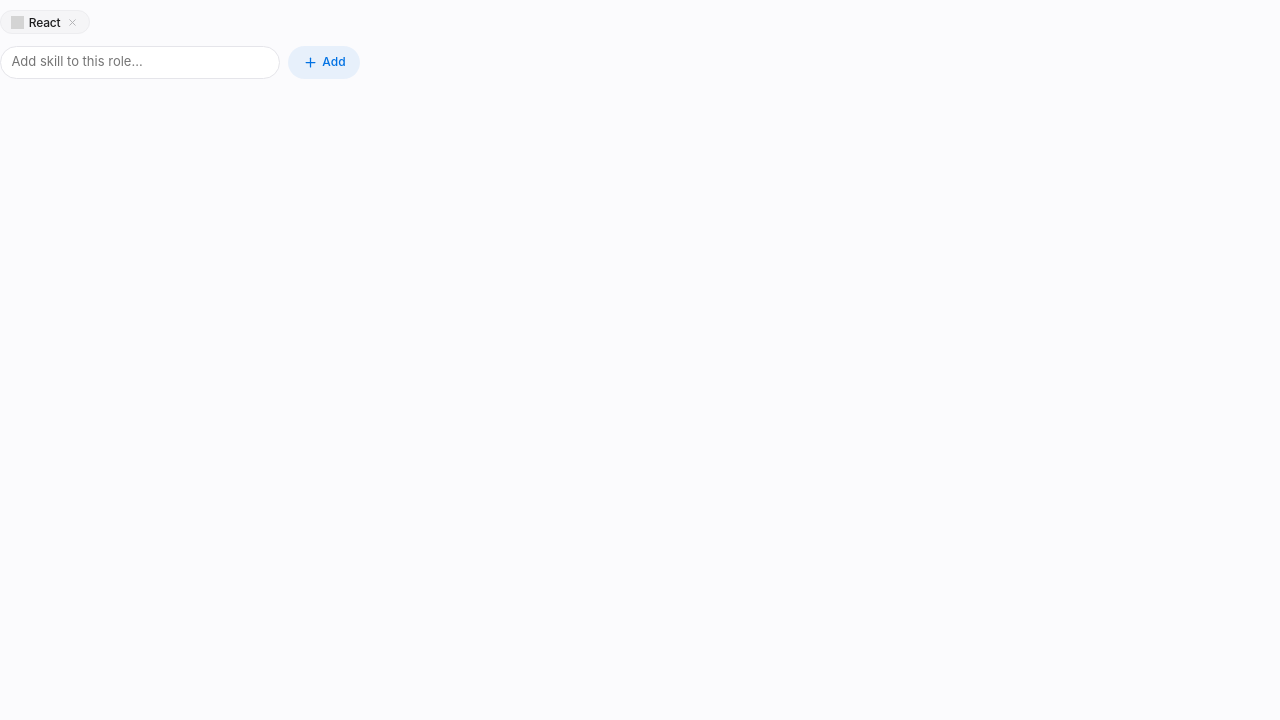
Scenario: ExperienceSkills › prevents duplicate skills within a single role and allows adding/removing
Later steps or results of the test are not shown.
Check: the number of list items is 1, box [0, 10, 90, 34]
Type "React" into the dropdown named "New skill" at (140, 62), box [0, 46, 280, 79]
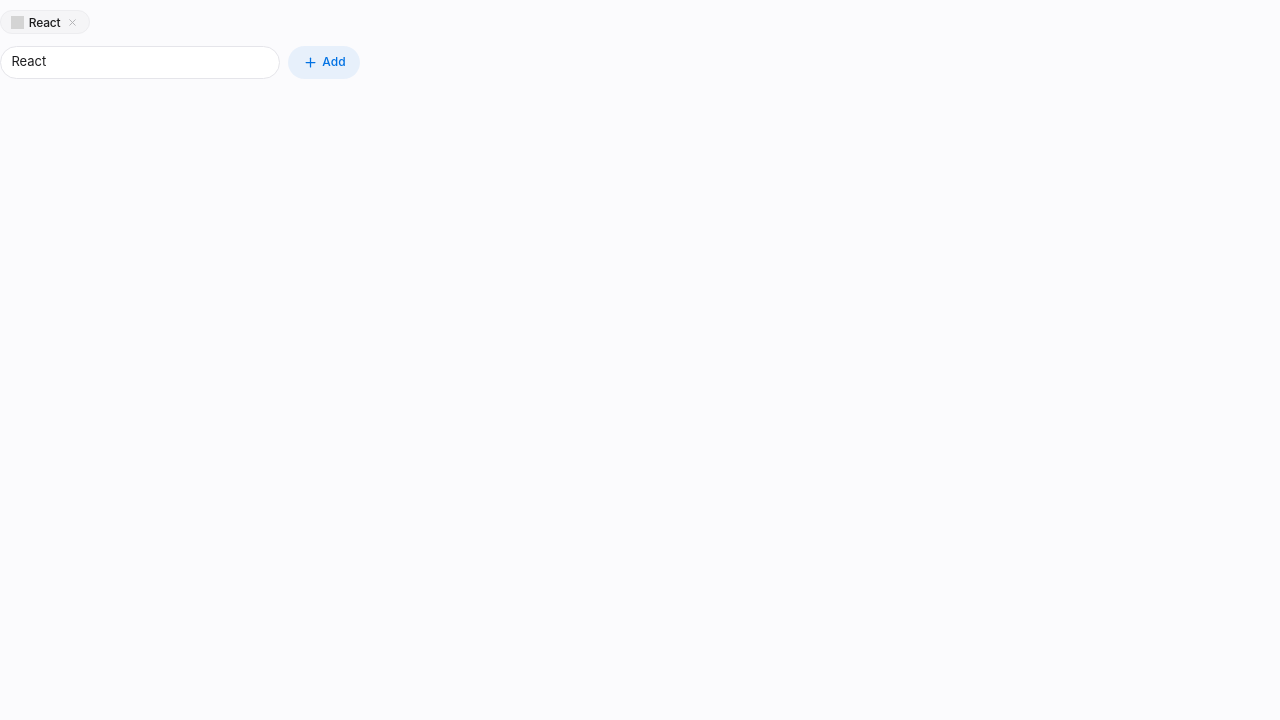
Click the button "Add" at (324, 62), box [288, 46, 360, 79]
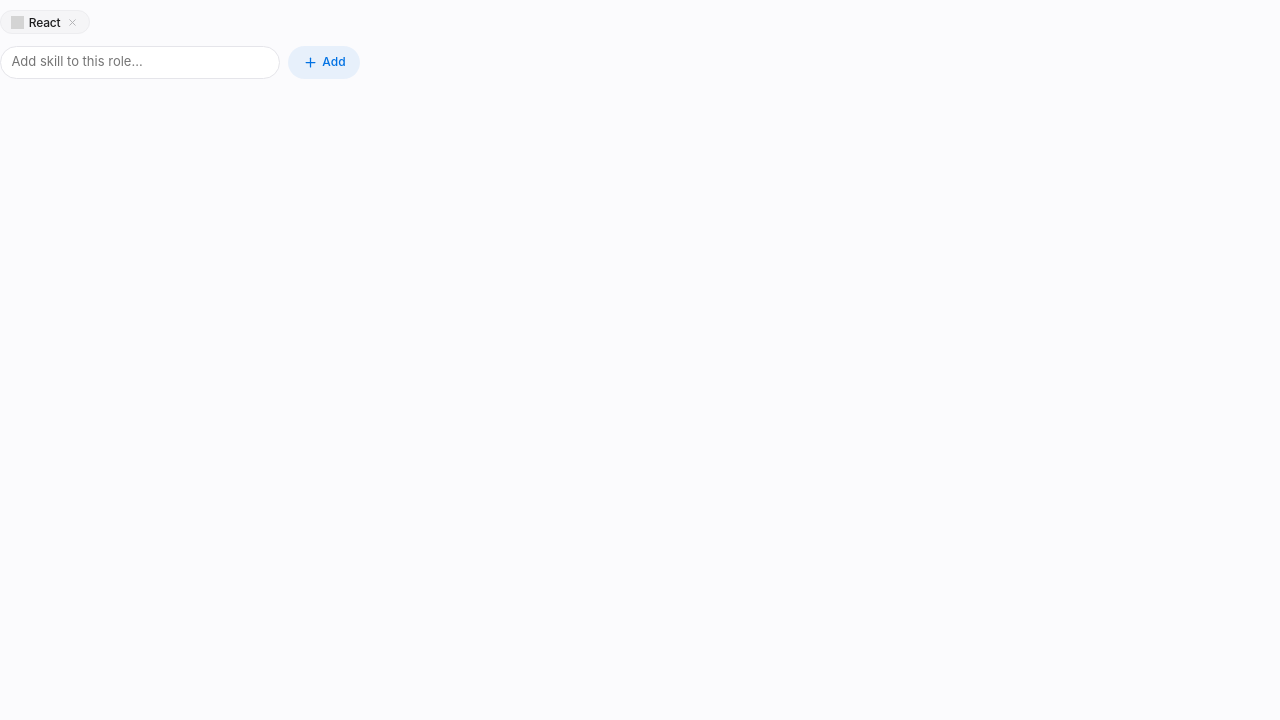
Type "Node.js" into the dropdown named "New skill" at (140, 62), box [0, 46, 280, 79]
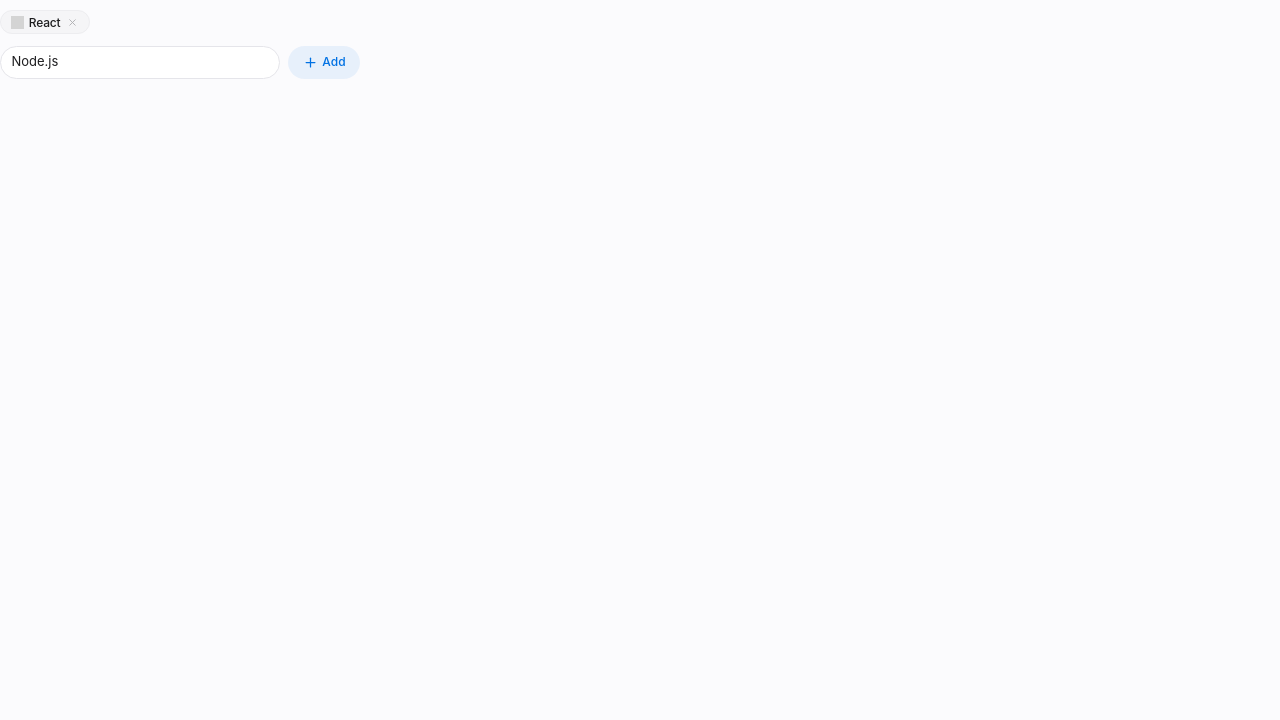
Click the button "Add" at (324, 62), box [288, 46, 360, 79]
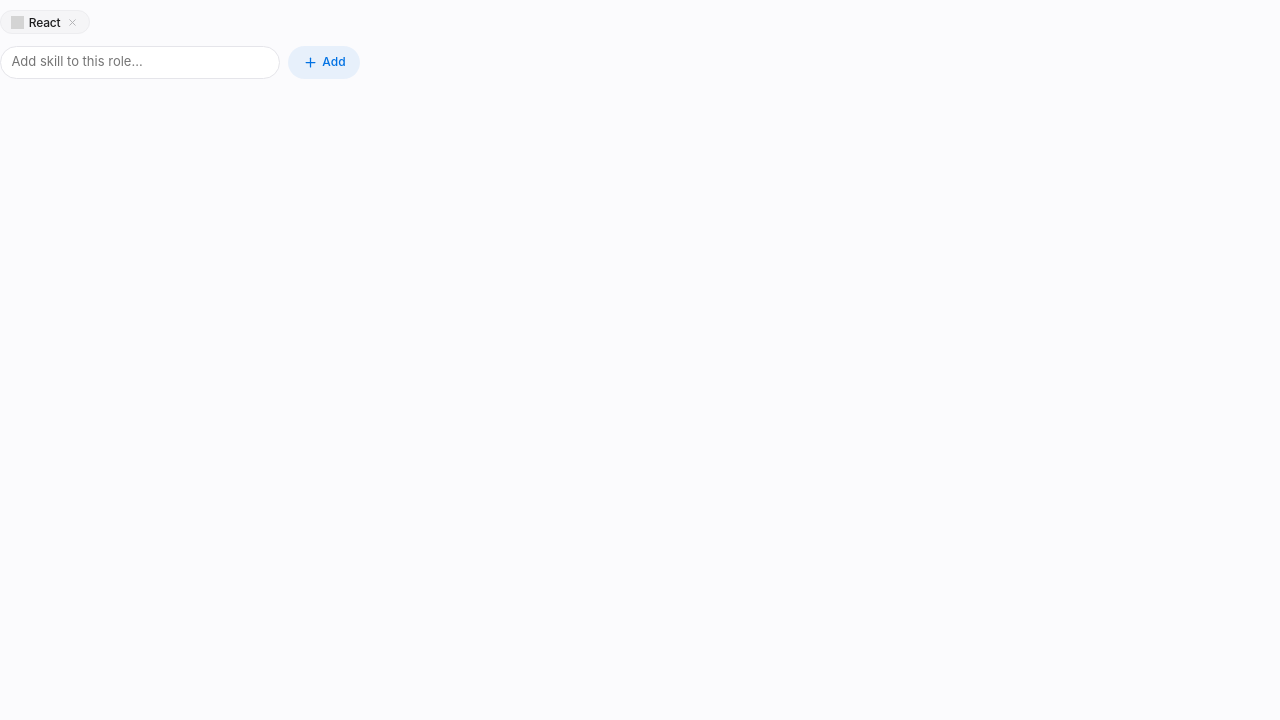
Click the button named "Remove React from role" at (72, 22), box [66, 16, 79, 29]
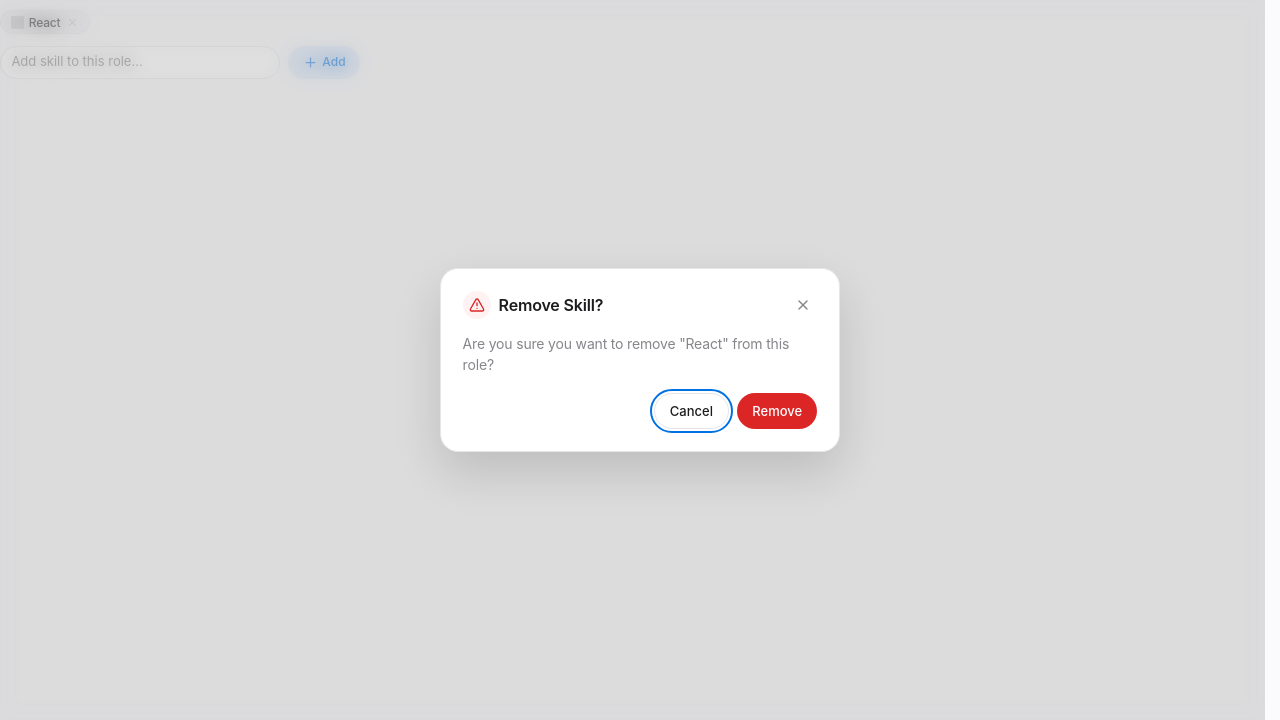
Check: the dialog "Remove Skill?" is shown, box [440, 268, 840, 452]
